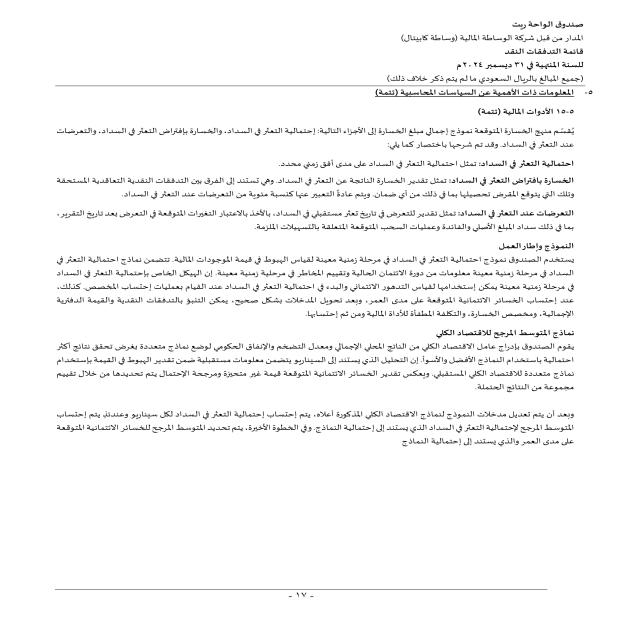financial_sheets: (491, 46, 586, 56)
